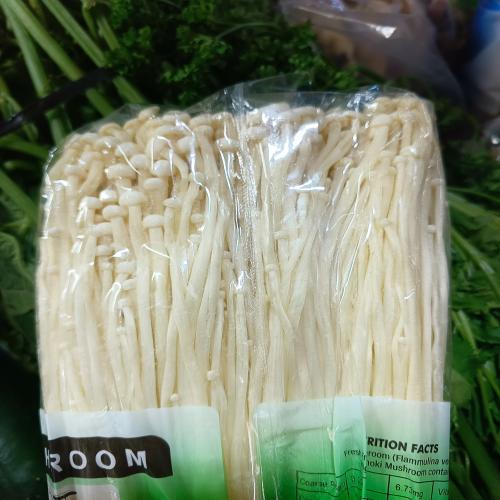Enoki Mushroom: (36, 80, 449, 500)
